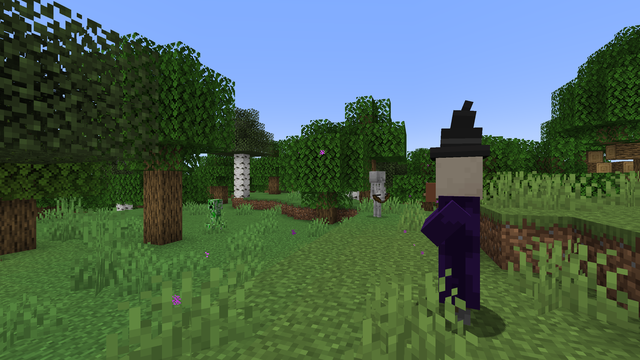creepers: (206, 197, 223, 232)
sorcieres: (429, 148, 493, 331)
squelettes: (369, 171, 384, 217)
